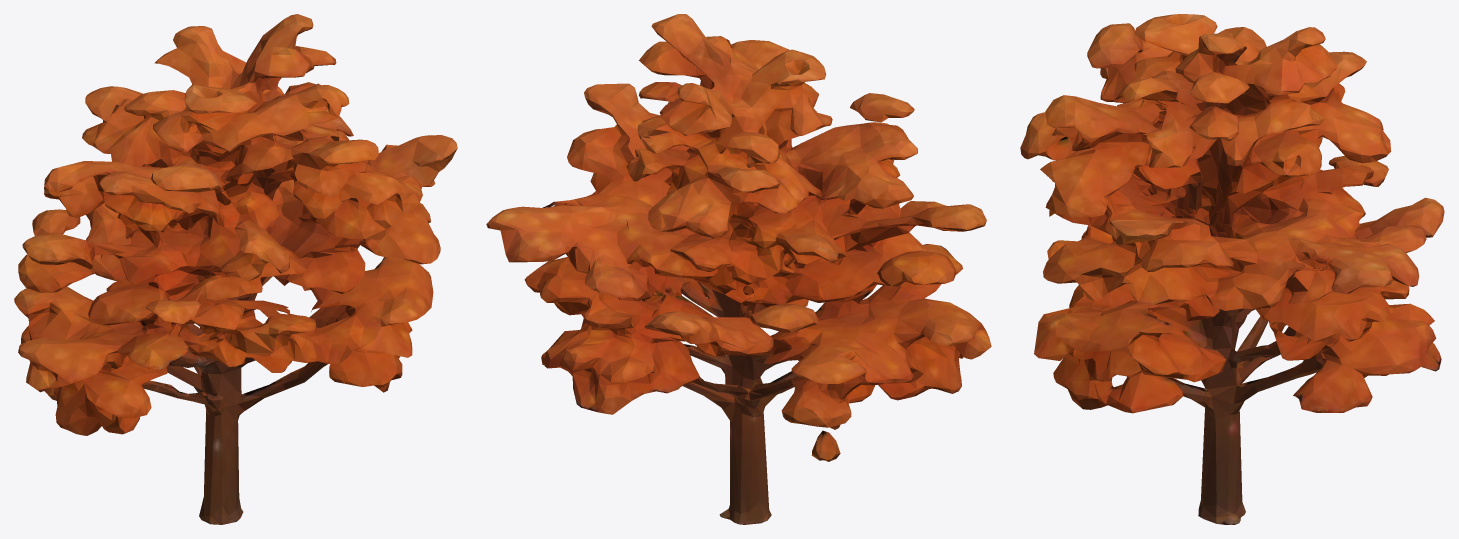
Rendered from tree_autumn_orange.glb.
3 renders of one model, left to right at view 1: azimuth 30°, elevation 25°; view 2: azimuth 150°, elevation 25°; view 3: azimuth 270°, elevation 25°, orthographic. The views are drawn at different scales.
Visible parts, largest first — view 1: geometry_0; view 2: geometry_0; view 3: geometry_0.
Boxes of the visible parts, left/top/right/bottom form: geometry_0: left=14, top=14, right=457, bottom=524; geometry_0: left=486, top=14, right=991, bottom=524; geometry_0: left=1020, top=14, right=1444, bottom=524.
Bounding box in the file's own units: 0.8985 × 0.999 × 0.743.
1 material, 1 textured.
